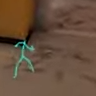hacks_2: (13, 41, 35, 78)
